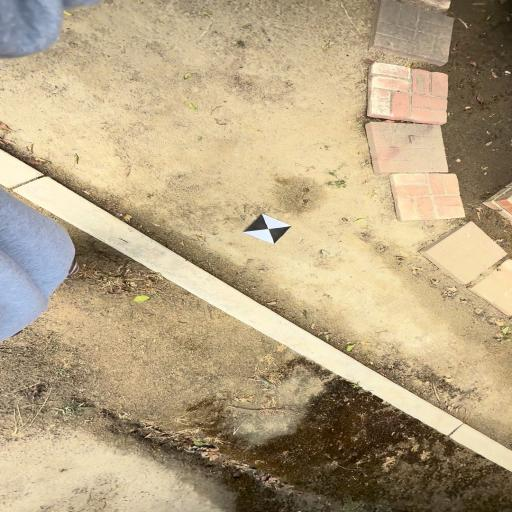target: (244, 214, 290, 244)
